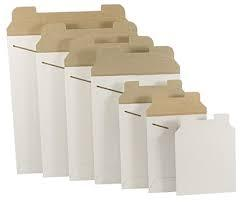Cardboard: (0, 5, 249, 203)
